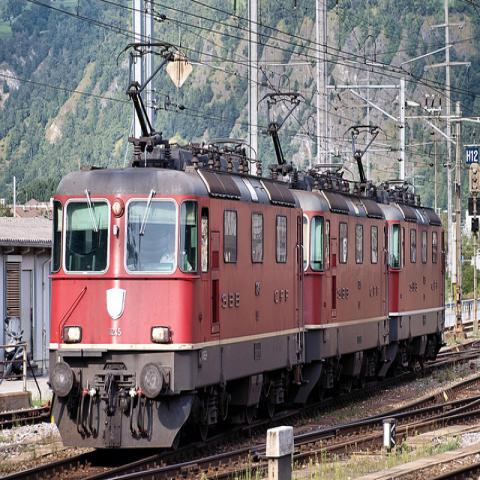motorcycle: (3, 316, 27, 380)
